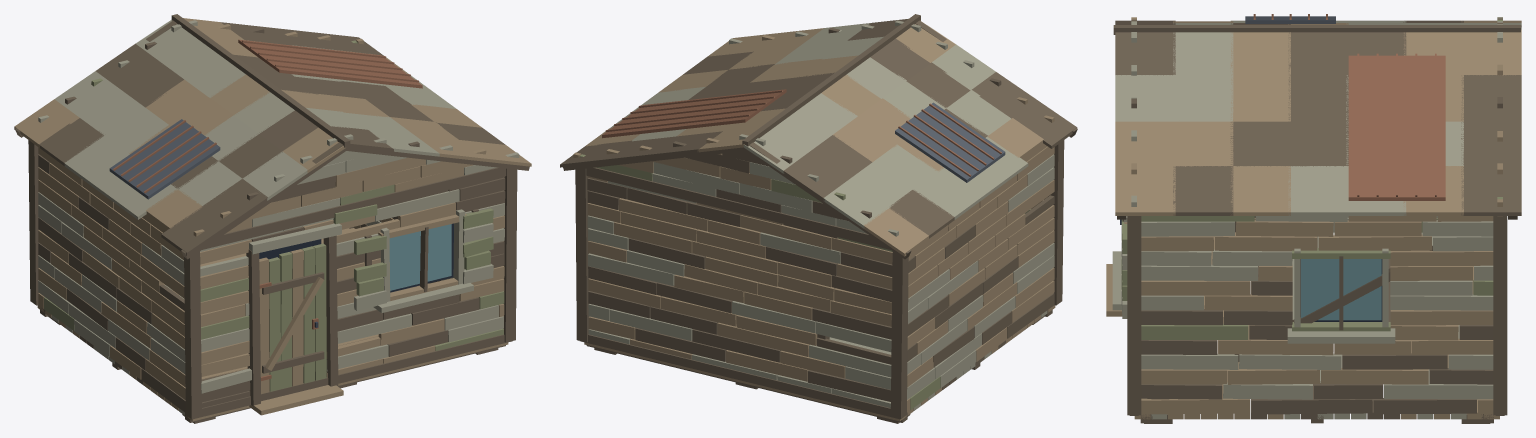
File: bld_residential_b.glb
3 views of the same model, side by side, from view 1: azimuth 30°, elevation 25°; view 2: azimuth 150°, elevation 25°; view 3: azimuth 270°, elevation 25° (orthographic). The views are drawn at different scales.
Visible parts, largest first — view 1: bld_residential_b, bld_residential_b__Roof old iron repair 0, bld_residential_b__Roof old iron repair 1, bld_residential_b__Hut upper wall beam -2.04, bld_residential_b__Front window dull glass, bld_residential_b__Hut corner post -2.39_-2.04, bld_residential_b__Hut horizontal wall beam -2.04, bld_residential_b__Hut corner post 2.39_-2.04, bld_residential_b__Roof ridge weathered cap, bld_residential_b__Door skewed upright 1, bld_residential_b__Door skewed upright -1, bld_residential_b__Hut corner post -2.39_2.04 (+83 smaller); view 2: bld_residential_b, bld_residential_b__Roof old iron repair 0, bld_residential_b__Roof old iron repair 1, bld_residential_b__Hut upper wall beam 2.04, bld_residential_b__Hut horizontal wall beam 2.04, bld_residential_b__Hut corner post -2.39_2.04, bld_residential_b__Hut corner post 2.39_2.04, bld_residential_b__Roof ridge weathered cap, bld_residential_b__Hut corner post -2.39_-2.04, bld_residential_b__Rear row 3 plank 1, bld_residential_b__Rear row 12 plank 1, bld_residential_b__Rear row 1 plank 2 (+87 smaller); view 3: bld_residential_b, bld_residential_b__Roof old iron repair 1, bld_residential_b__Side window dull panes, bld_residential_b__Roof ridge weathered cap, bld_residential_b__Hut corner post 2.39_2.04, bld_residential_b__Hut corner post 2.39_-2.04, bld_residential_b__Side 1 row 0 part 0 plank 1, bld_residential_b__Side 1 row 9 part 0 plank 0, bld_residential_b__Side 1 row 8 part 0 plank 0, bld_residential_b__Side 1 row 1 part 0 plank 3, bld_residential_b__Side 1 row 11 part 0 plank 2, bld_residential_b__Side 1 row 0 part 0 plank 0 (+55 smaller).
Part boxes in pixels (x1=…): bld_residential_b: x1=14, y1=18, x2=531, y2=255; bld_residential_b__Roof old iron repair 0: x1=109, y1=119, x2=220, y2=199; bld_residential_b__Roof old iron repair 1: x1=238, y1=39, x2=422, y2=88; bld_residential_b__Hut upper wall beam -2.04: x1=202, y1=167, x2=506, y2=249; bld_residential_b__Front window dull glass: x1=389, y1=224, x2=451, y2=290; bld_residential_b__Hut corner post -2.39_-2.04: x1=184, y1=251, x2=201, y2=418; bld_residential_b__Hut horizontal wall beam -2.04: x1=192, y1=334, x2=512, y2=419; bld_residential_b__Hut corner post 2.39_-2.04: x1=503, y1=168, x2=517, y2=342; bld_residential_b__Roof ridge weathered cap: x1=171, y1=14, x2=350, y2=147; bld_residential_b__Door skewed upright 1: x1=323, y1=235, x2=338, y2=386; bld_residential_b__Door skewed upright -1: x1=246, y1=249, x2=260, y2=406; bld_residential_b__Hut corner post -2.39_2.04: x1=28, y1=140, x2=38, y2=305; bld_residential_b: x1=560, y1=19, x2=1077, y2=256; bld_residential_b__Roof old iron repair 0: x1=895, y1=102, x2=1005, y2=182; bld_residential_b__Roof old iron repair 1: x1=602, y1=89, x2=786, y2=138; bld_residential_b__Hut upper wall beam 2.04: x1=586, y1=167, x2=890, y2=249; bld_residential_b__Hut horizontal wall beam 2.04: x1=580, y1=334, x2=899, y2=419; bld_residential_b__Hut corner post -2.39_2.04: x1=890, y1=251, x2=908, y2=419; bld_residential_b__Hut corner post 2.39_2.04: x1=575, y1=168, x2=589, y2=342; bld_residential_b__Roof ridge weathered cap: x1=742, y1=14, x2=920, y2=146; bld_residential_b__Hut corner post -2.39_-2.04: x1=1048, y1=140, x2=1064, y2=305; bld_residential_b__Rear row 3 plank 1: x1=717, y1=322, x2=809, y2=356; bld_residential_b__Rear row 12 plank 1: x1=740, y1=215, x2=831, y2=249; bld_residential_b__Rear row 1 plank 2: x1=635, y1=328, x2=726, y2=361; bld_residential_b: x1=1115, y1=20, x2=1521, y2=215; bld_residential_b__Roof old iron repair 1: x1=1348, y1=55, x2=1445, y2=200; bld_residential_b__Side window dull panes: x1=1301, y1=259, x2=1381, y2=320; bld_residential_b__Roof ridge weathered cap: x1=1113, y1=25, x2=1520, y2=34; bld_residential_b__Hut corner post 2.39_2.04: x1=1493, y1=216, x2=1507, y2=415; bld_residential_b__Hut corner post 2.39_-2.04: x1=1127, y1=216, x2=1141, y2=415; bld_residential_b__Side 1 row 0 part 0 plank 1: x1=1251, y1=397, x2=1372, y2=414; bld_residential_b__Side 1 row 9 part 0 plank 0: x1=1141, y1=264, x2=1257, y2=280; bld_residential_b__Side 1 row 8 part 0 plank 0: x1=1141, y1=280, x2=1250, y2=295; bld_residential_b__Side 1 row 1 part 0 plank 3: x1=1384, y1=383, x2=1493, y2=399; bld_residential_b__Side 1 row 11 part 0 plank 2: x1=1318, y1=234, x2=1431, y2=250; bld_residential_b__Side 1 row 0 part 0 plank 0: x1=1141, y1=397, x2=1250, y2=414.
Size of the model in its own units: 5.27 by 3.73 by 4.63.
